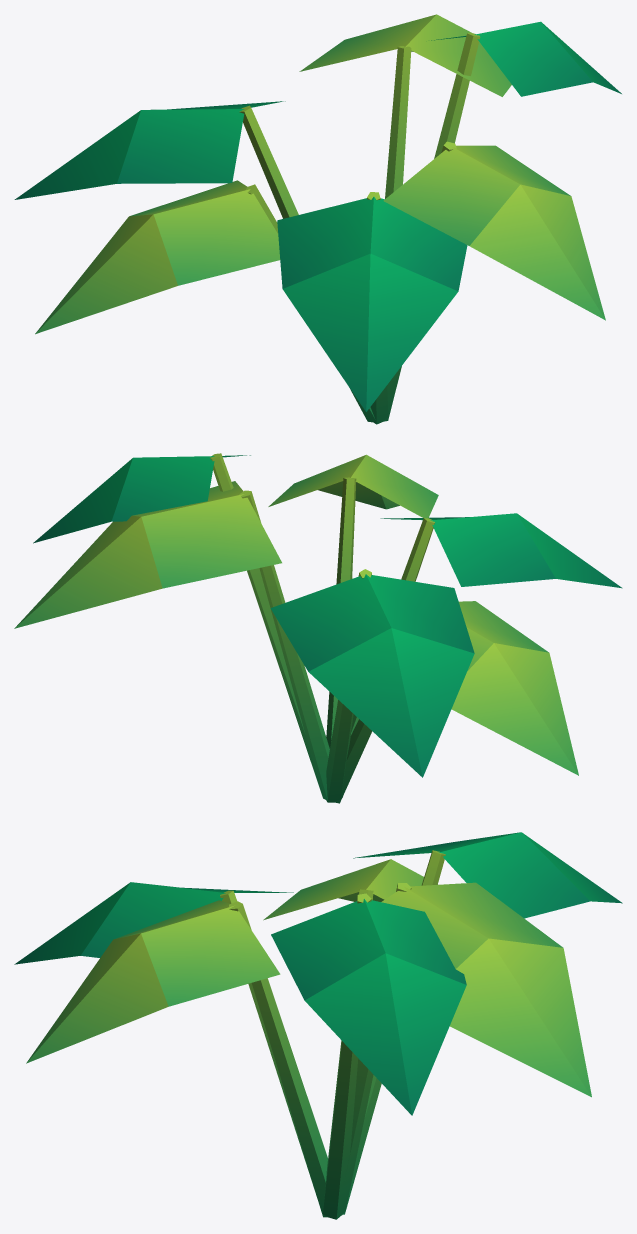
File: taro_plant.glb
3 renders of one model, top to bottom at view 1: azimuth 30°, elevation 25°; view 2: azimuth 150°, elevation 25°; view 3: azimuth 270°, elevation 25°, orthographic. The views are drawn at different scales.
Visible parts, largest first — view 1: taro_plant; view 2: taro_plant; view 3: taro_plant.
Part boxes in pixels (left/top/right/bottom): taro_plant: left=14, top=14, right=621, bottom=424; taro_plant: left=14, top=453, right=622, bottom=803; taro_plant: left=14, top=832, right=622, bottom=1219.
Size of the model in its own units: 2.33 by 1.33 by 1.95.
Materials: 1 (1 with a texture image).
